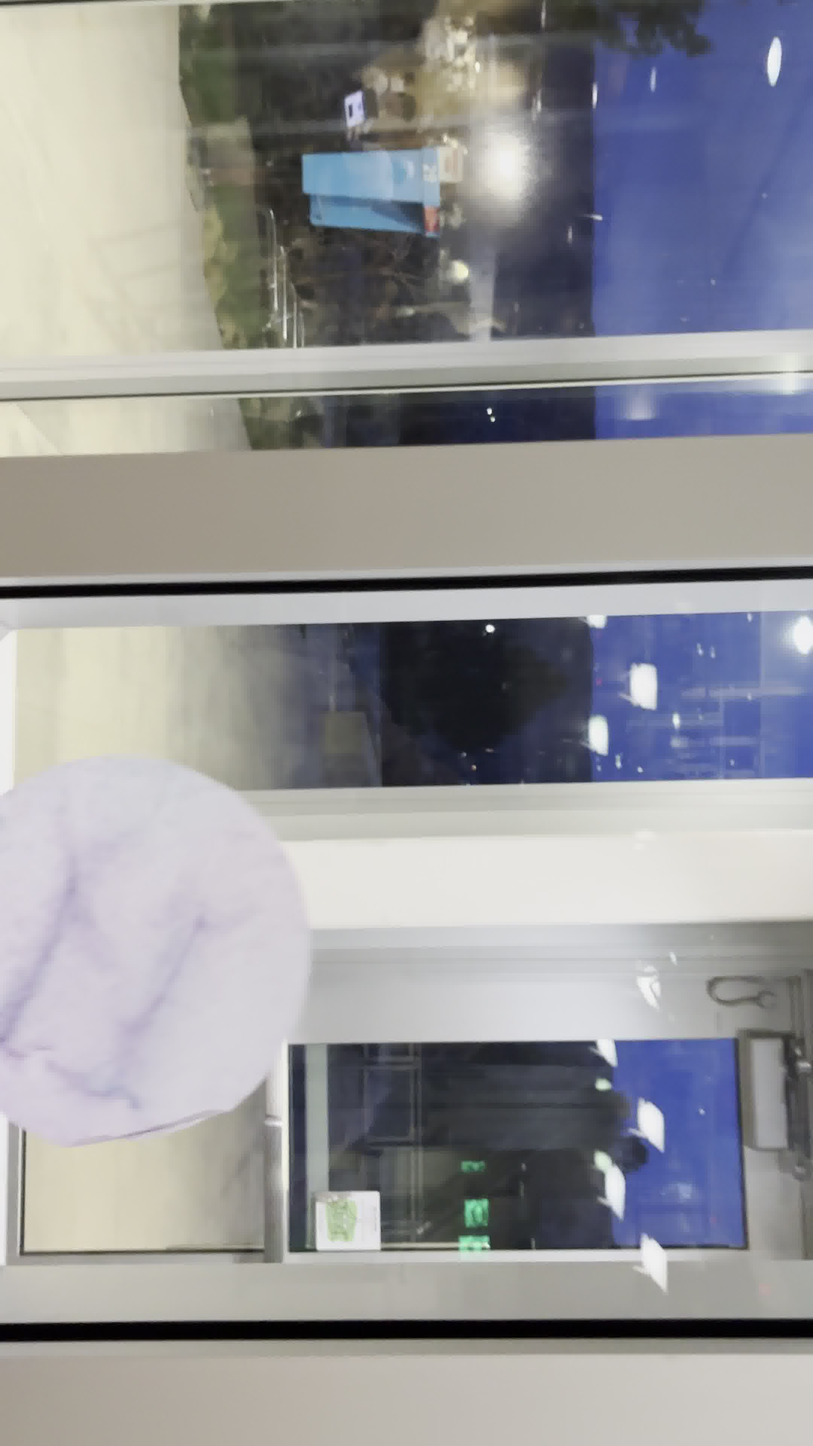Target: (2, 755, 300, 1144)
